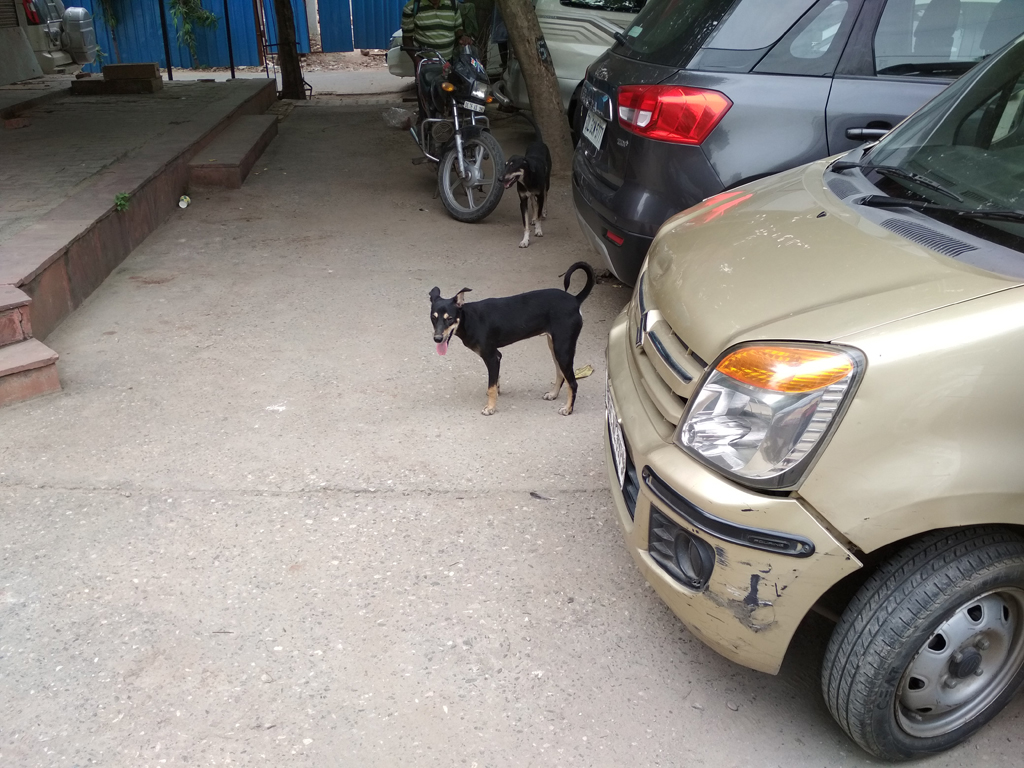dog: (430, 261, 597, 415), (498, 112, 552, 249)
